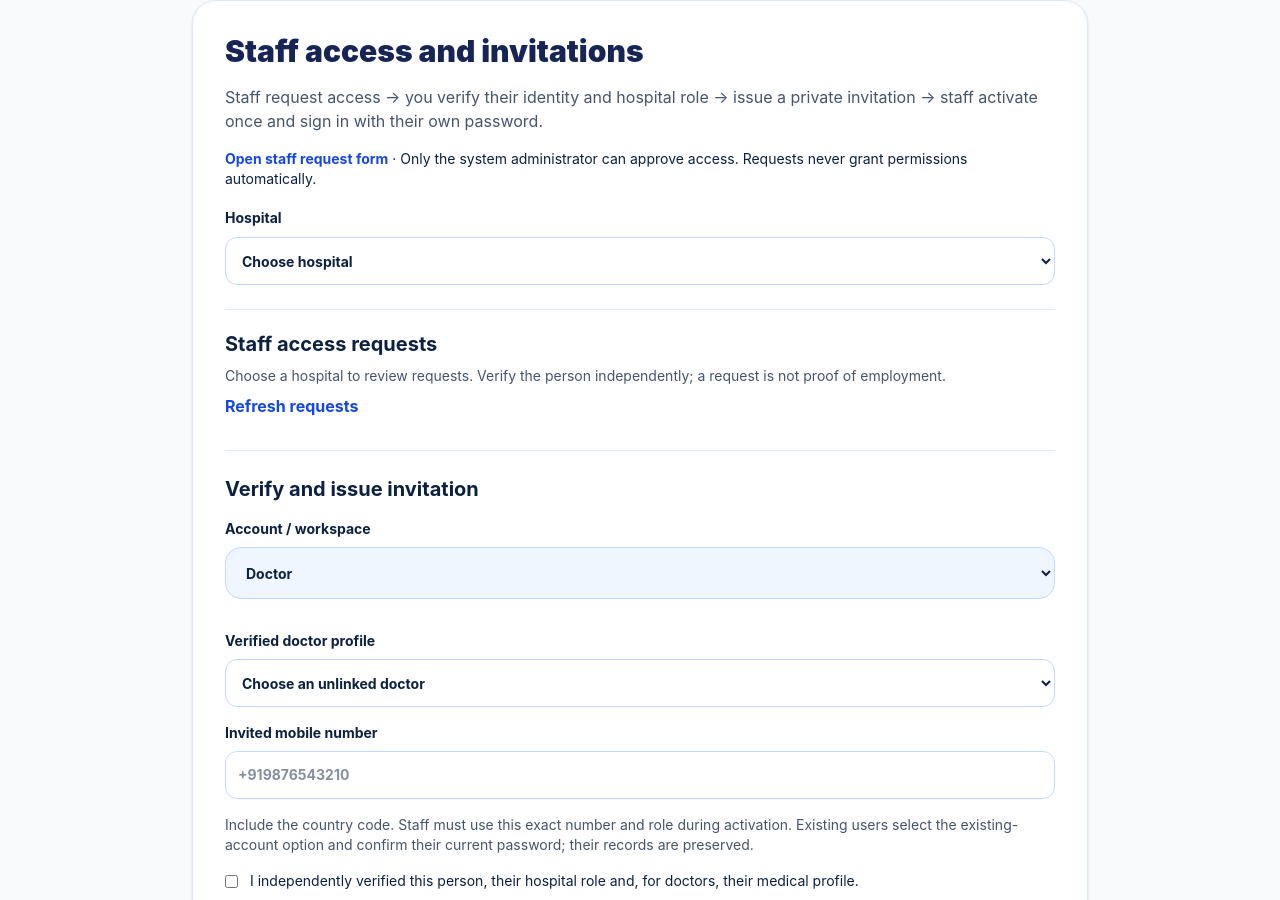
Scenario: issues an invitation for the selected mobile and role and can revoke it
The image size is (1280, 900).
Select "Office clerk (desk & cash)" in the dropdown labelled "Account / workspace" at (640, 573), box [225,547,1055,599]
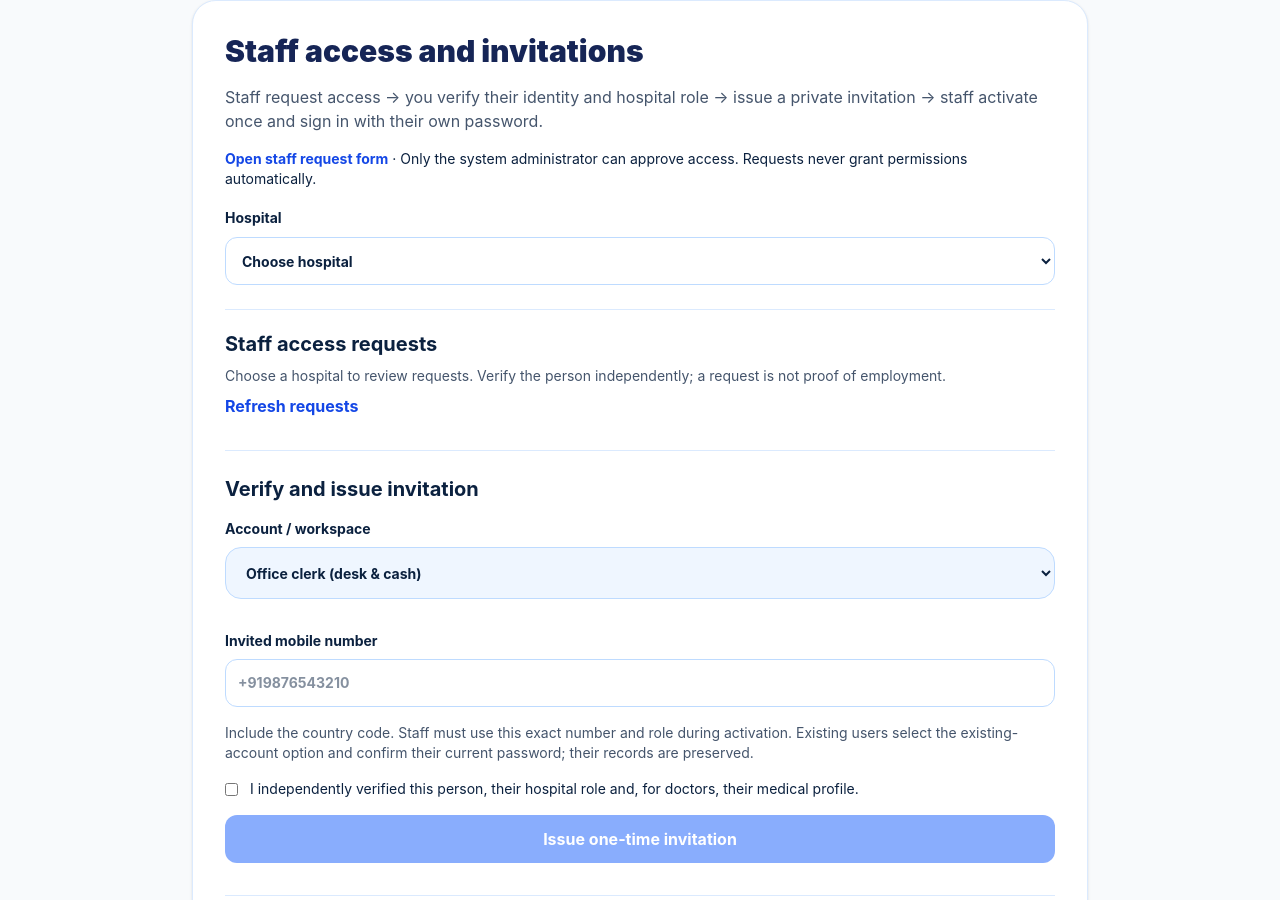
Select "Verified Hospital" in the dropdown labelled "Hospital" at (640, 261), box [225,237,1055,285]
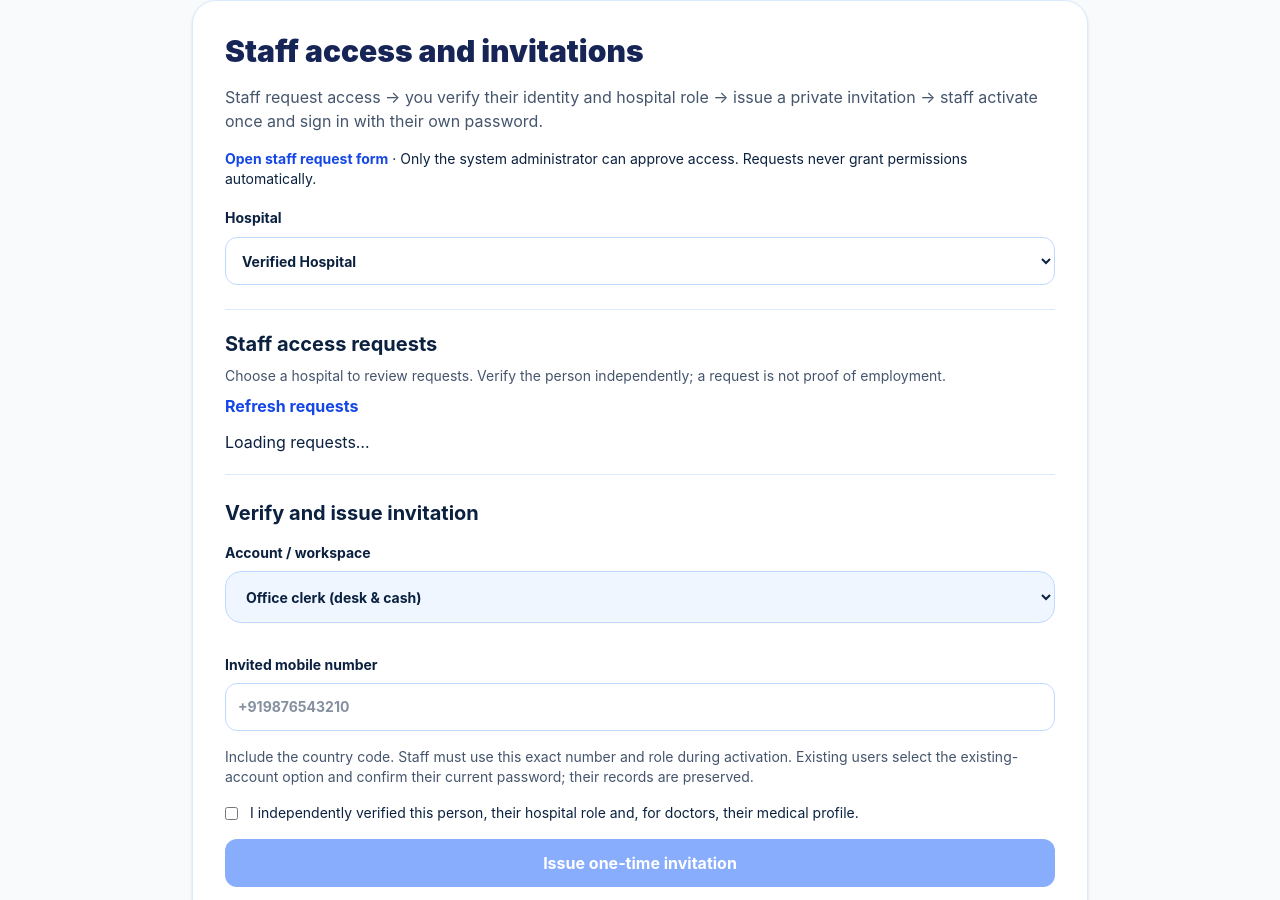
Type "+919000000001" into the field labelled "Invited mobile number" at (640, 707), box [225,683,1055,731]
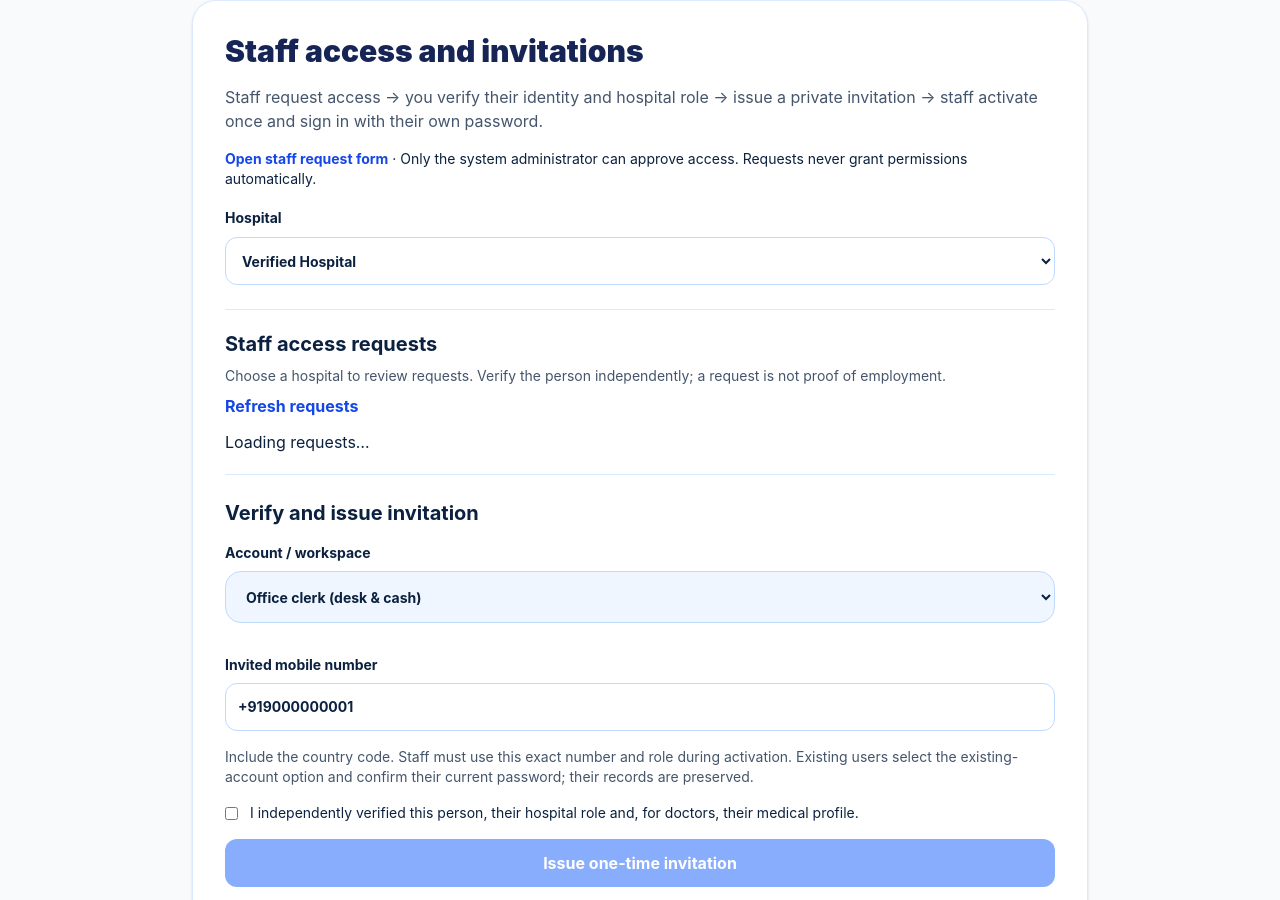
Click the checkbox labelled "I independently verified this person, their hospital role" at (232, 814), box [225,807,238,820]
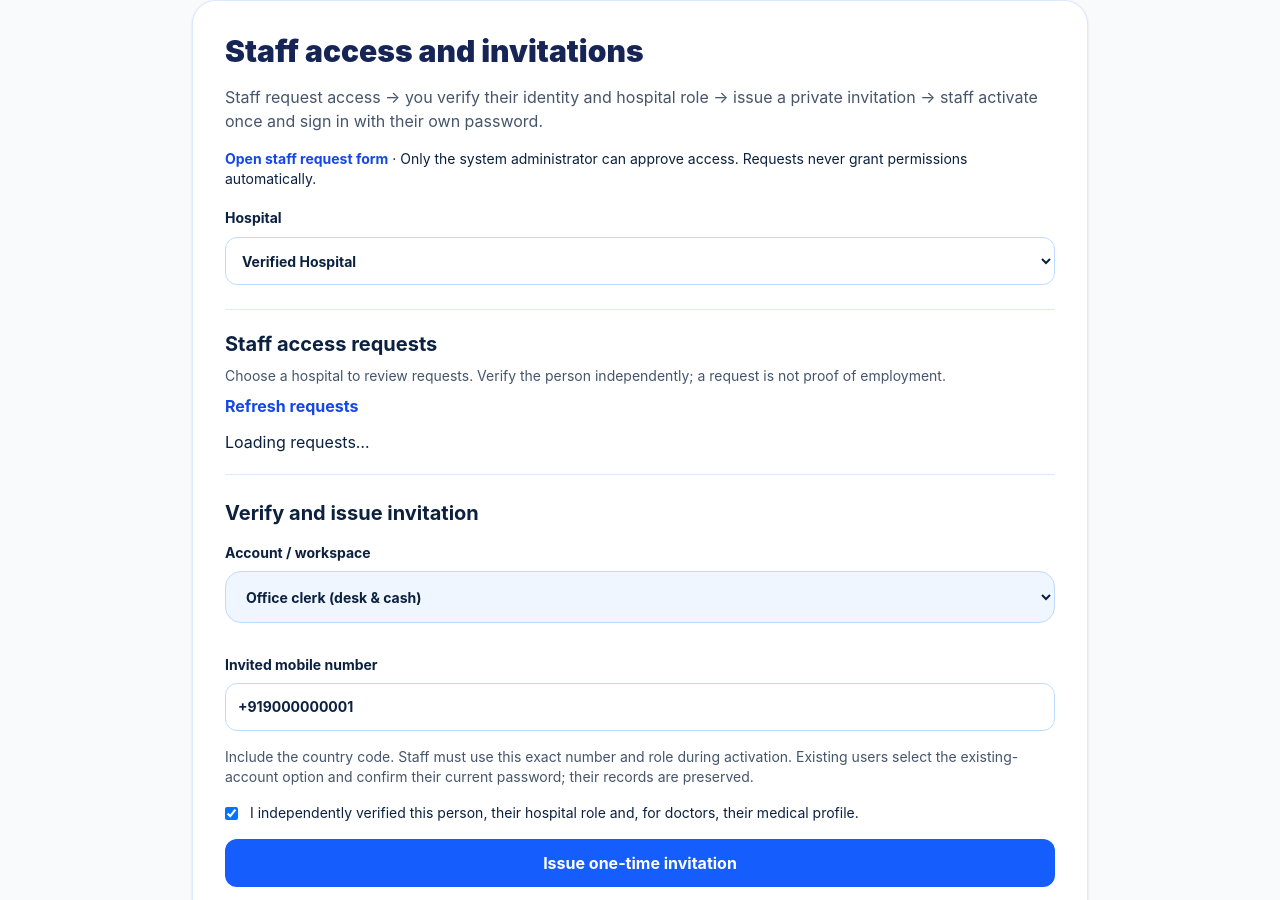
Submit the form named "Issue one-time invitation", box [225,543,1055,887]
(page scrolled)
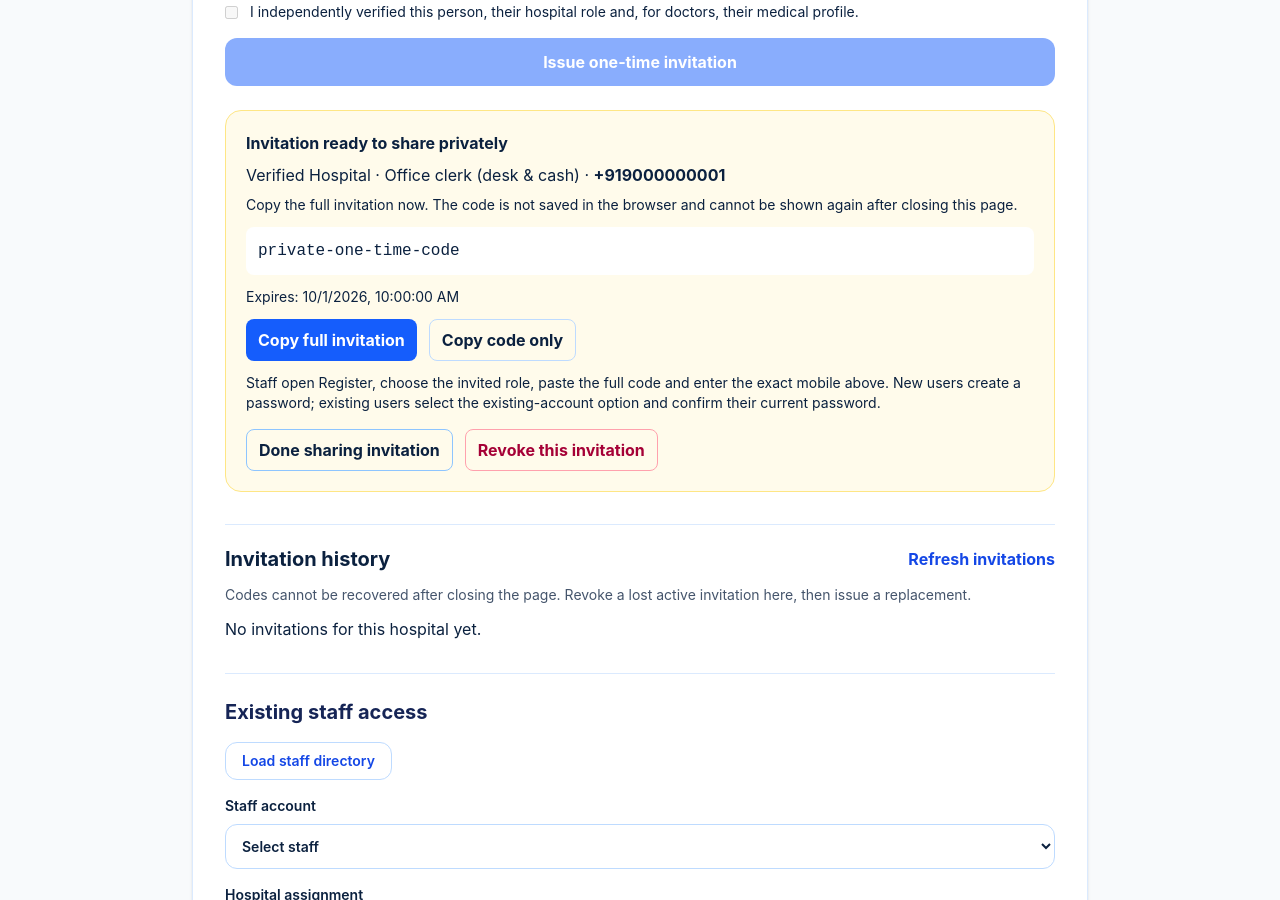
Expected: the text "private-one-time-code" is shown, [246,227,1034,275]
Click the button "Revoke this invitation" at (561, 450), box [465,429,658,471]
(page scrolled)
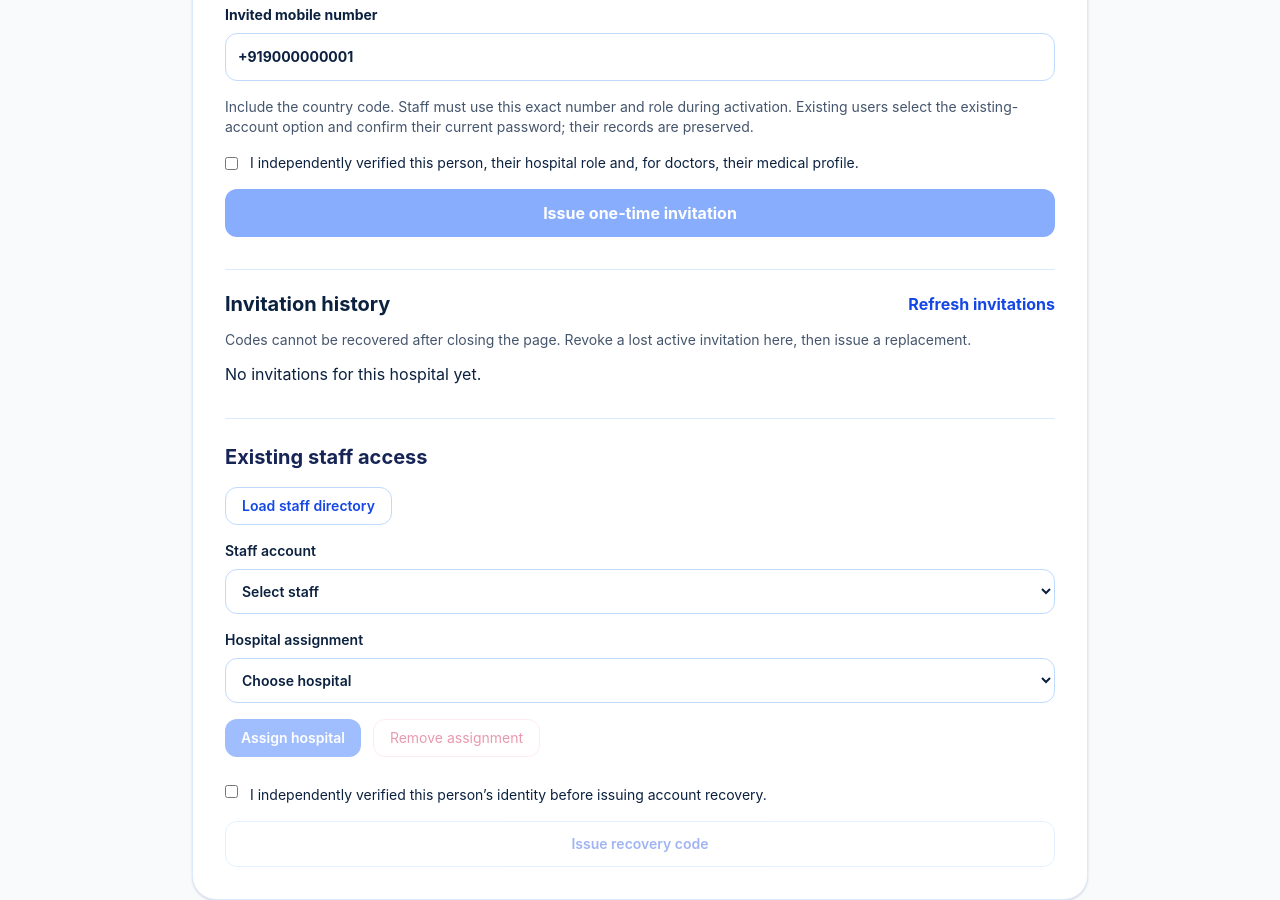
Expected: the text "private-one-time-code" is gone
